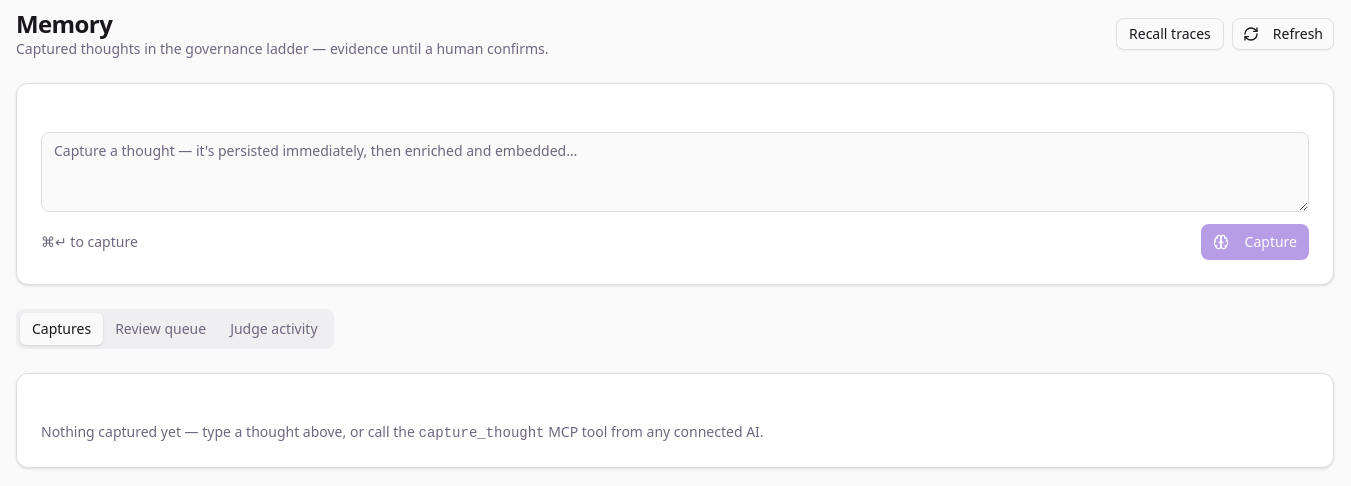
Test: shows an empty state when nothing is pending
The width and height of the screenshot is (1351, 486).
Click the tab "Review queue" at (161, 329), box [103,313,218,345]
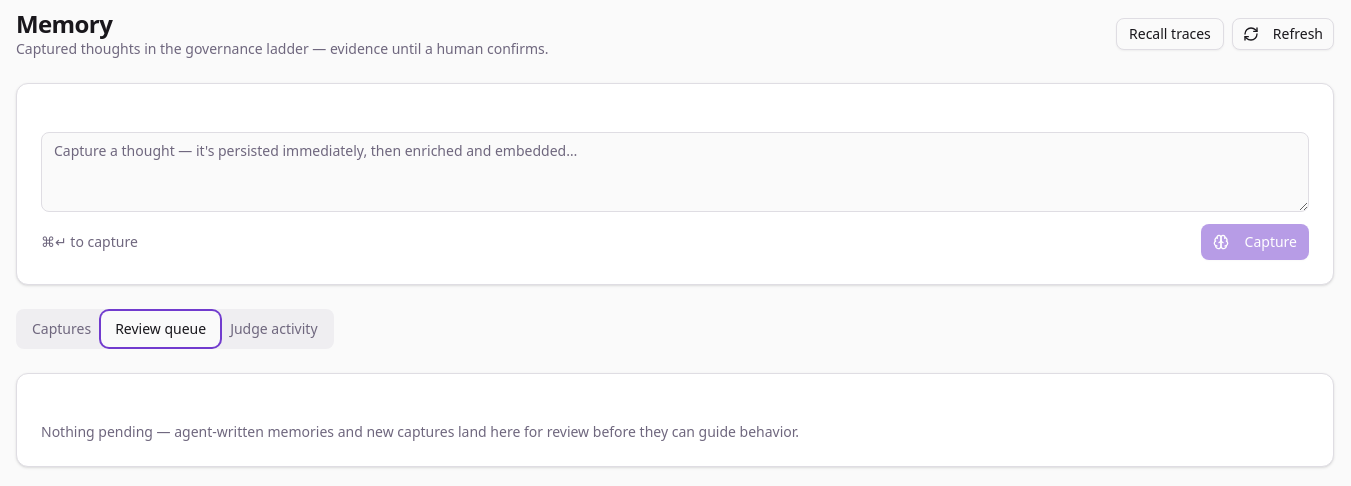
Check: the text "Nothing pending" is shown, box [41,422,799,441]
